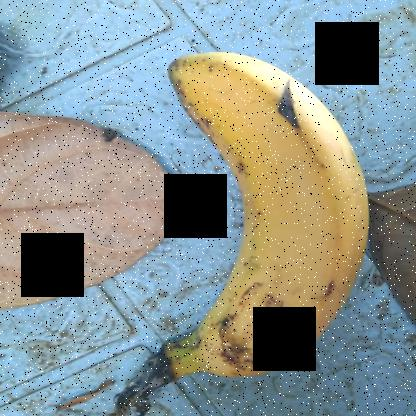ripe: (133, 29, 374, 388)
